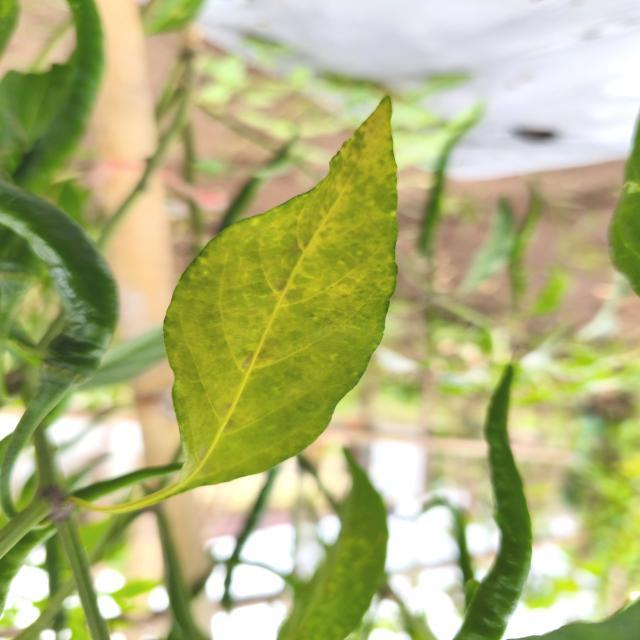Virus Kuning: (162, 95, 401, 480)
